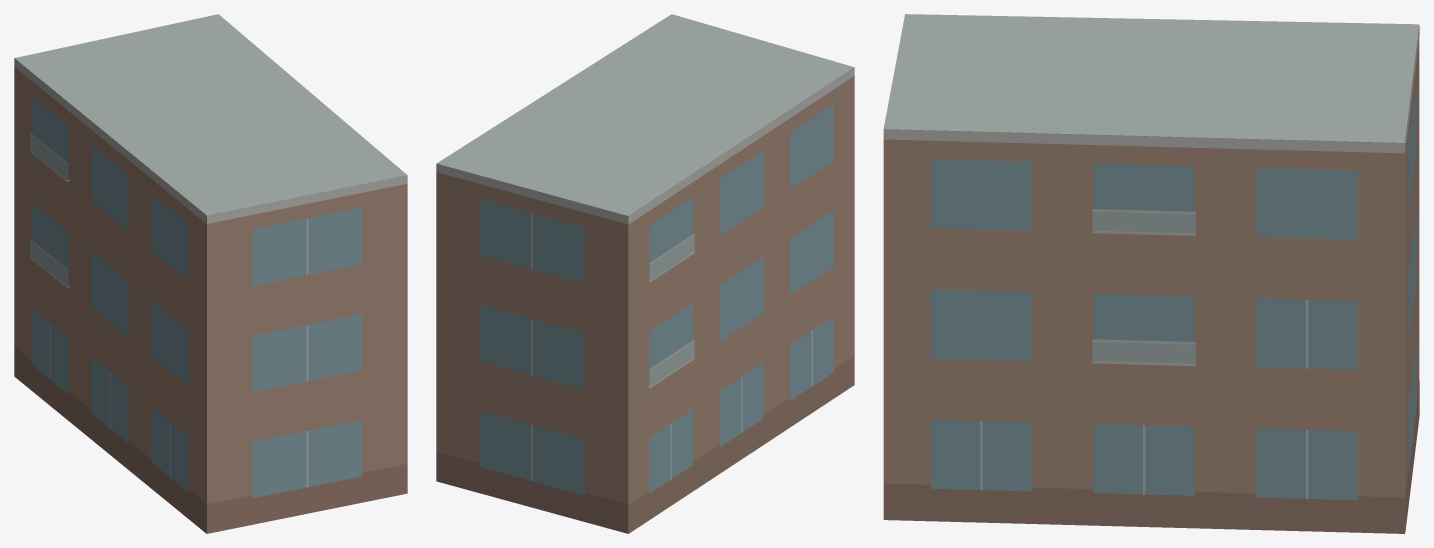
Rendered from survey-upis-32808342.glb.
The picture shows the model from 3 angles, left to right: view 1: azimuth 30°, elevation 25°; view 2: azimuth 150°, elevation 25°; view 3: azimuth 270°, elevation 25°; orthographic projection. The views are drawn at different scales.
Visible parts, largest first — view 1: survey-upis-32808342.tmp; view 2: survey-upis-32808342.tmp; view 3: survey-upis-32808342.tmp.
Part boxes in pixels (box(x1,y1,x2,y2)): survey-upis-32808342.tmp: box(14, 14, 407, 533); survey-upis-32808342.tmp: box(436, 14, 854, 533); survey-upis-32808342.tmp: box(883, 14, 1419, 533).
Size of the model in its own units: 6.49 by 9.15 by 11.38.
